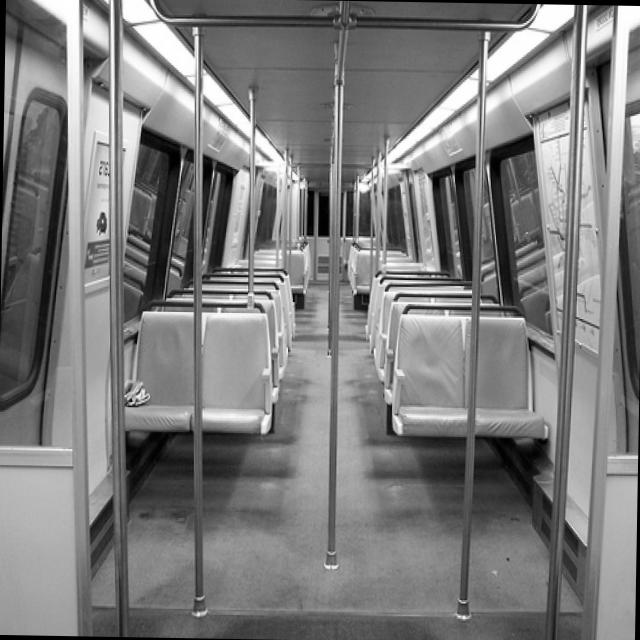2001: (4, 98, 61, 393), (501, 148, 555, 334), (124, 141, 171, 323), (466, 162, 502, 305), (440, 174, 463, 274)
bar stool: (546, 4, 589, 639), (457, 27, 493, 615), (111, 0, 131, 632), (325, 28, 348, 567), (192, 23, 209, 614), (248, 83, 260, 308), (385, 137, 390, 269), (314, 189, 321, 278)
door opening: (4, 12, 92, 446), (417, 173, 435, 265)
map: (537, 97, 602, 350)
seats crop: (365, 268, 551, 438), (124, 264, 298, 431), (345, 238, 410, 291), (253, 236, 313, 291)
